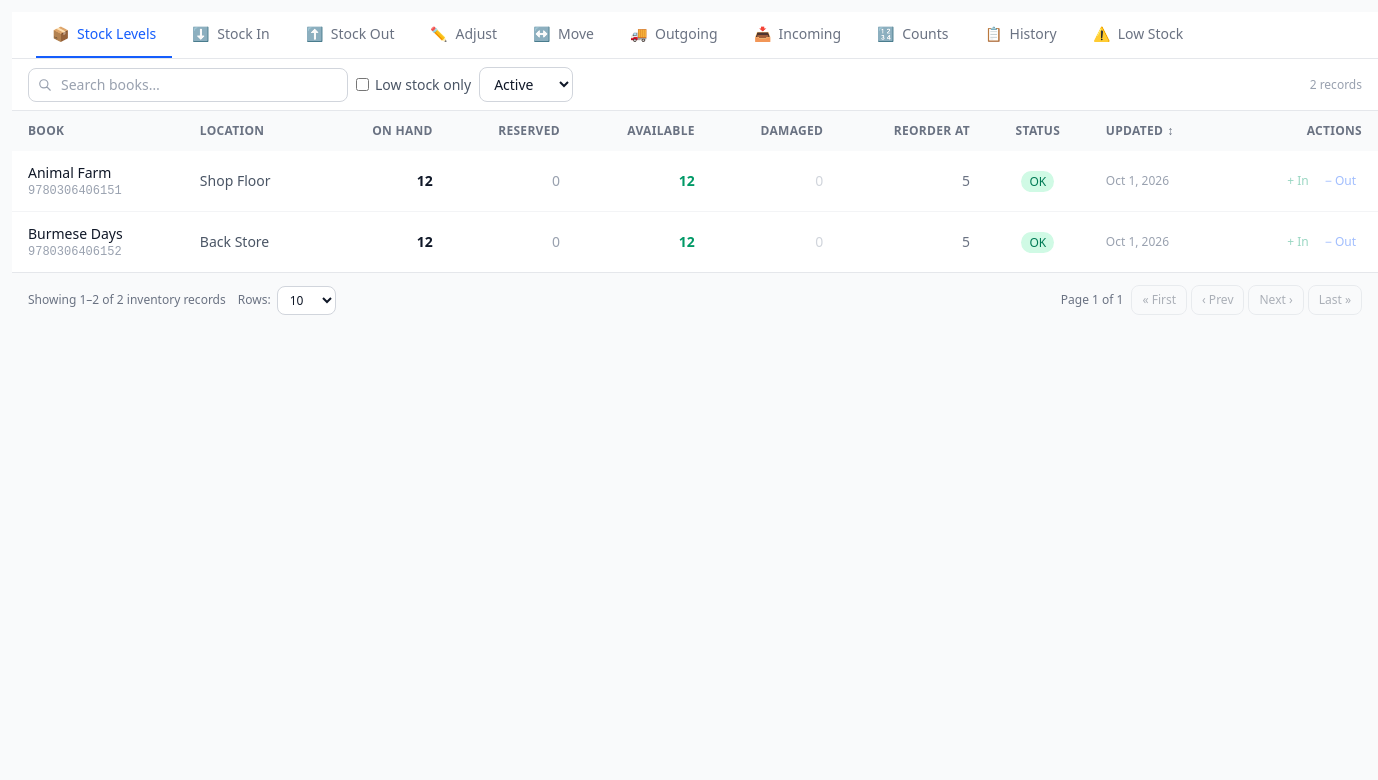
Test: Inventory: location limits › offers staff limited to some locations only those (was: every location, which the API refused)
Expected: the text "Animal Farm" is shown, [28,163,111,183]
Click the button "⬇️ Stock In" at (231, 35), box [176,12,286,58]
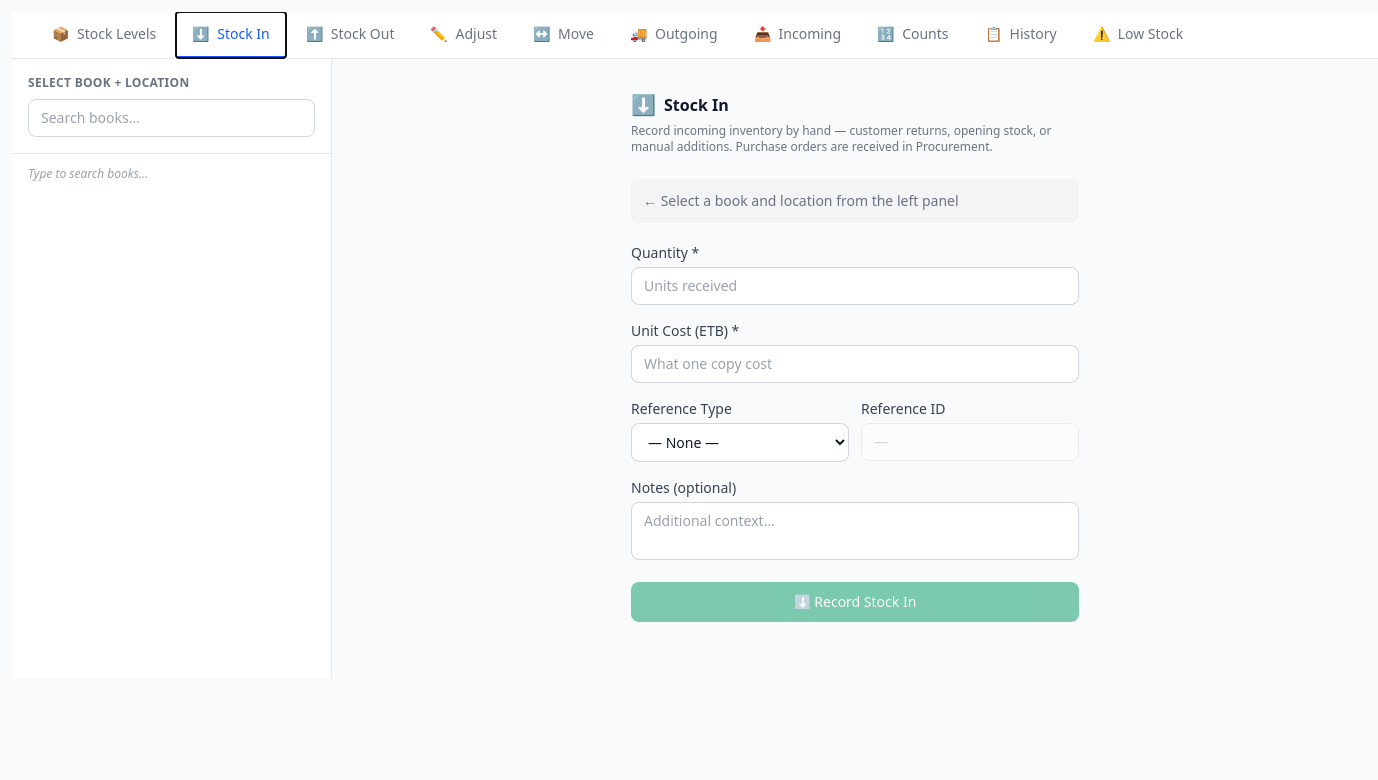
Type "Anima" into the field with placeholder "Search books…" at (172, 118), box [28,99,315,137]
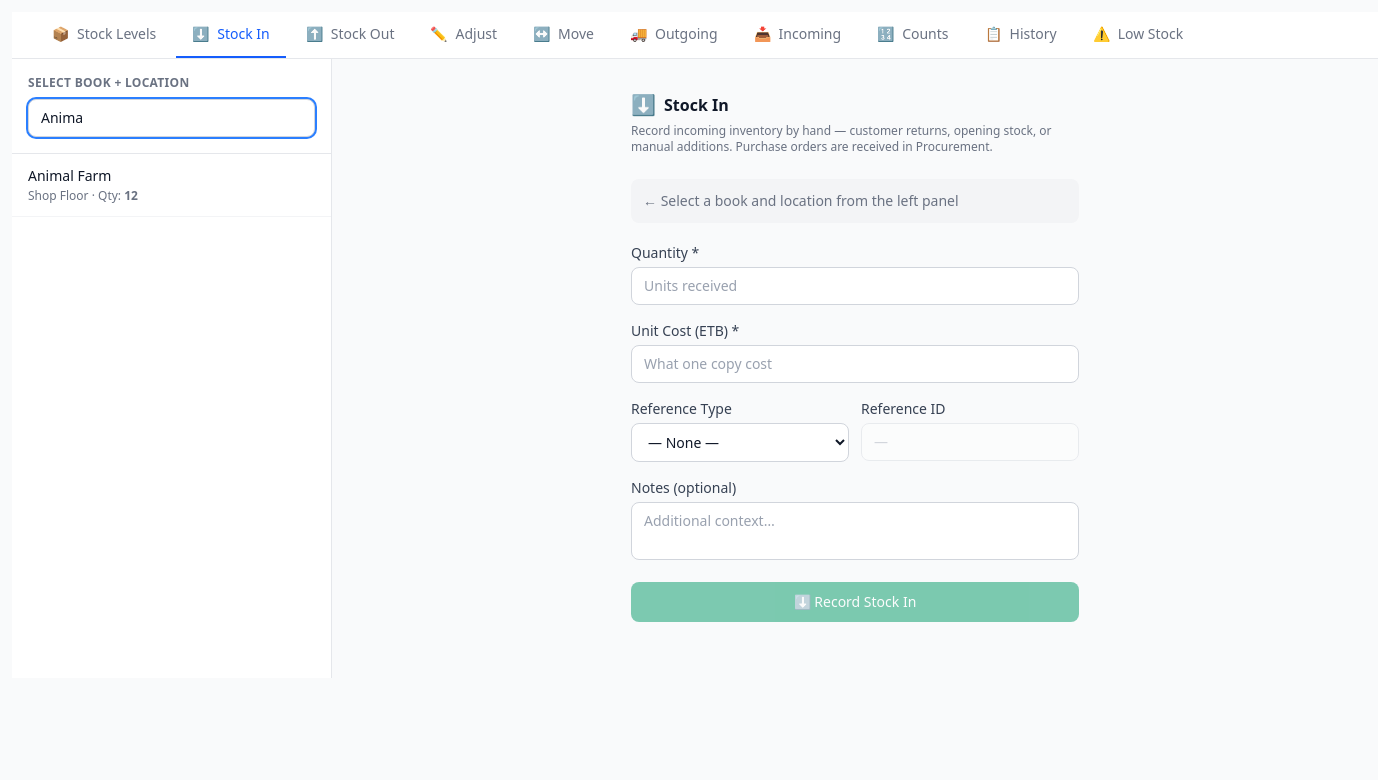
Expected: the text "Burmese Days" is not shown
Expected: the text "Animal Farm" is shown, [28,166,111,185]
